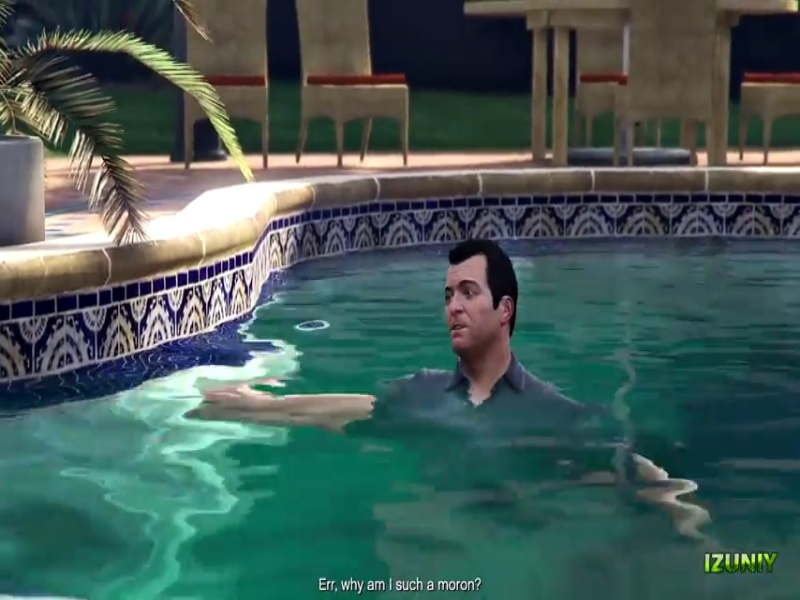human: (379, 237, 608, 433)
